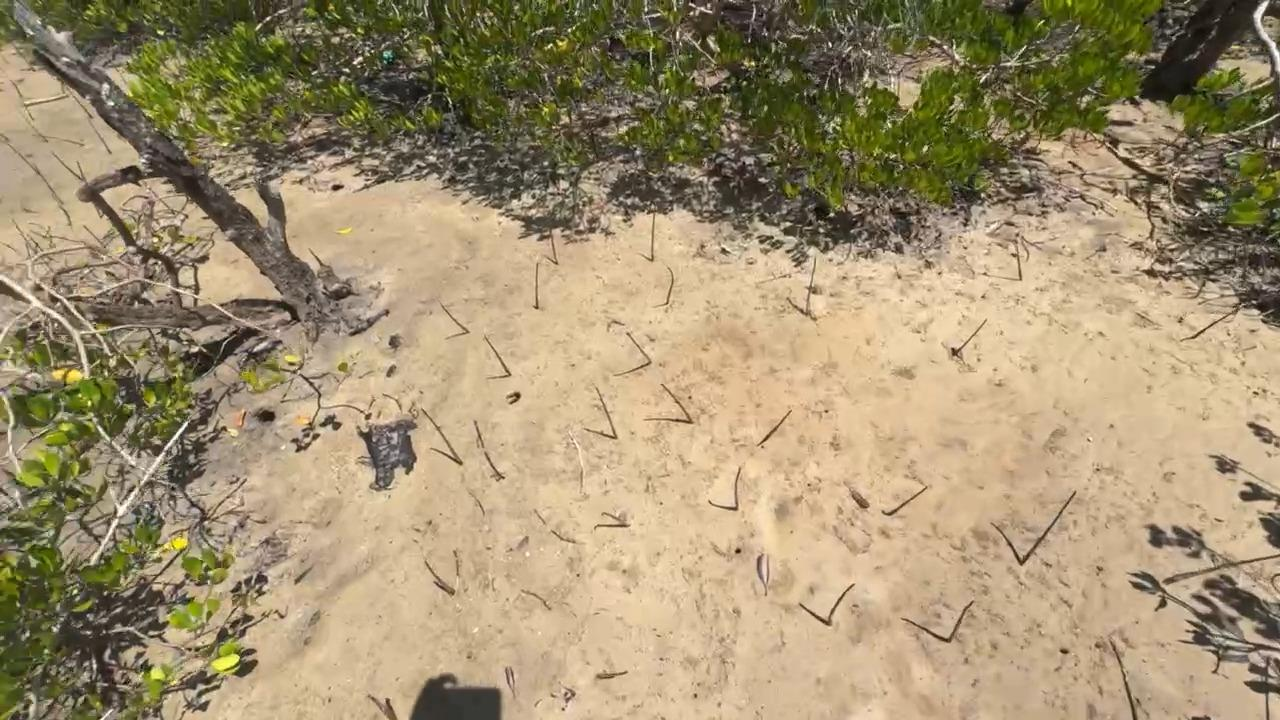Tree: (1021, 490, 1078, 563), (419, 406, 462, 464), (75, 159, 102, 217), (0, 136, 40, 174), (660, 383, 694, 423), (953, 318, 988, 356), (827, 583, 857, 625), (595, 386, 618, 439), (947, 600, 975, 643), (888, 486, 928, 516), (1190, 312, 1234, 339), (484, 333, 511, 376), (142, 181, 176, 215), (33, 164, 62, 203), (424, 560, 455, 594), (17, 108, 47, 142), (9, 80, 34, 119), (439, 301, 469, 333), (65, 85, 93, 119), (764, 409, 792, 442), (52, 151, 82, 181), (88, 119, 113, 154), (625, 331, 652, 363), (10, 218, 35, 250), (366, 694, 396, 720), (805, 256, 817, 313), (38, 134, 87, 147), (33, 230, 84, 242), (484, 451, 506, 478), (54, 198, 72, 226), (109, 57, 127, 85), (600, 512, 626, 527), (734, 466, 742, 510), (307, 247, 323, 268), (474, 419, 485, 449), (549, 228, 558, 264), (1014, 242, 1022, 281), (666, 266, 674, 304), (651, 211, 656, 260), (535, 263, 540, 308)
